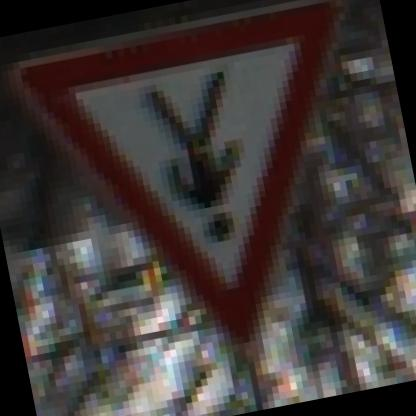crosswalk: (0, 0, 390, 403)
